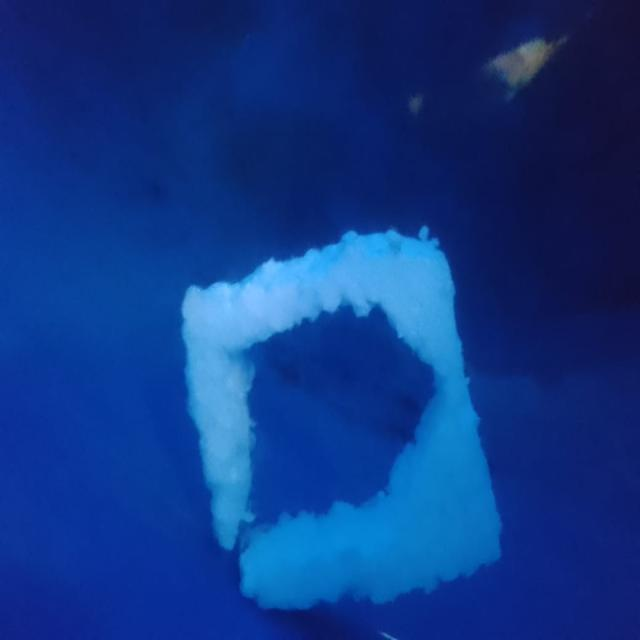litter: (164, 230, 501, 573)
